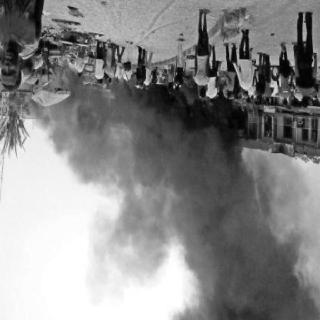Fire: (58, 52, 88, 90)
